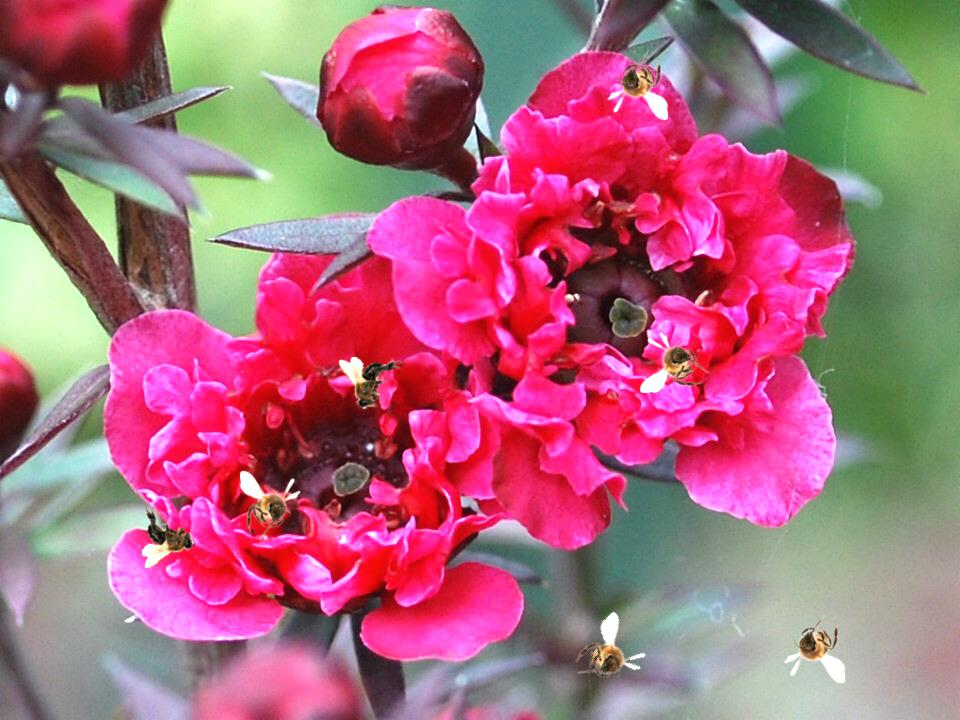Bee: (563, 610, 656, 704), (784, 613, 845, 683), (607, 50, 668, 120), (640, 332, 710, 393), (240, 471, 301, 541), (142, 506, 195, 568), (339, 357, 401, 410)
